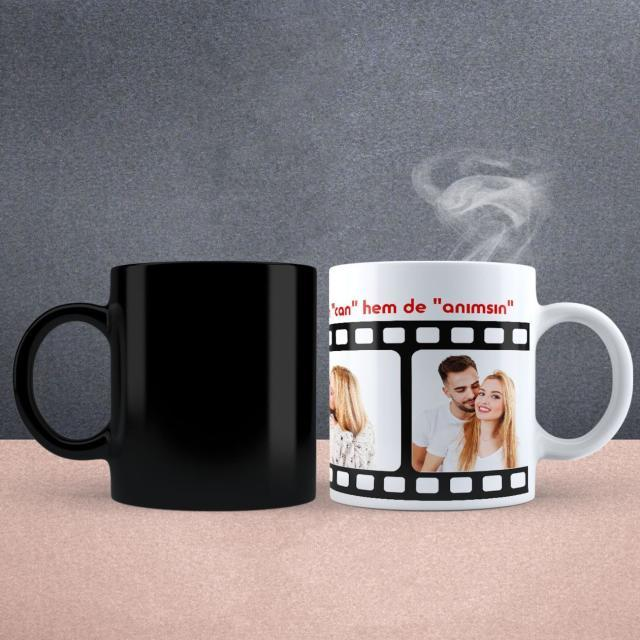Coffee Mug: (327, 262, 634, 514), (14, 262, 317, 514)
